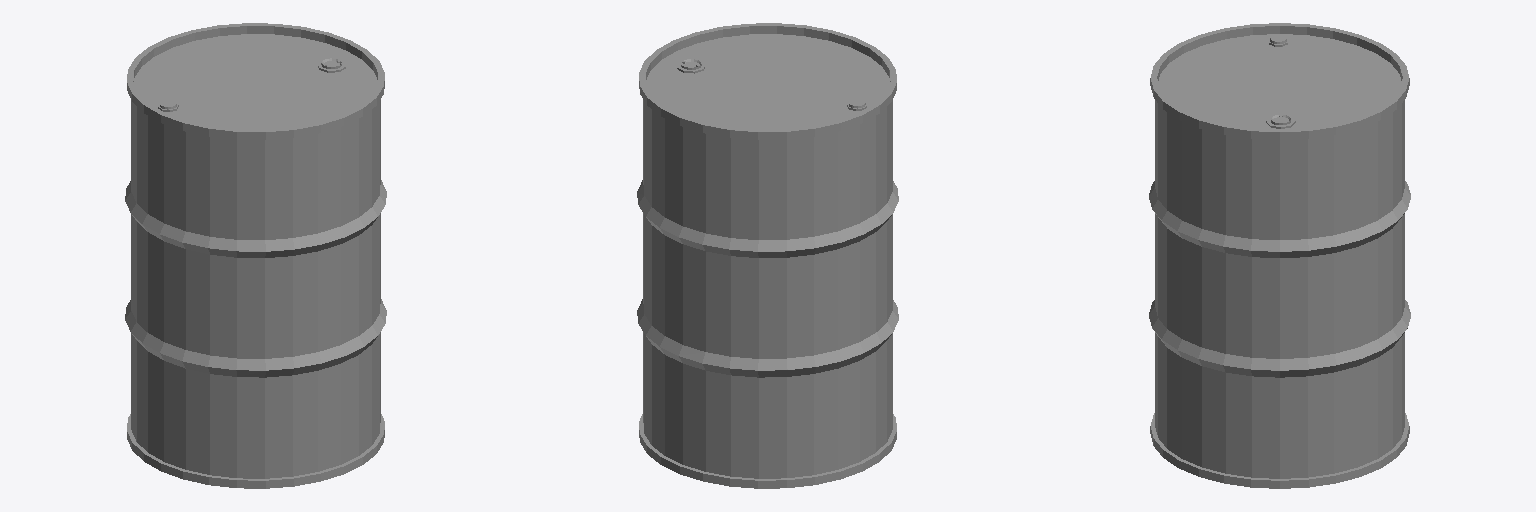
File: barrel_1.obj
The picture shows the model from 3 angles: view 1: azimuth 30°, elevation 25°; view 2: azimuth 150°, elevation 25°; view 3: azimuth 270°, elevation 25°; orthographic projection.
Visible parts, largest first — view 1: barrel_1; view 2: barrel_1; view 3: barrel_1.
Boxes of the visible parts, x1=… form: barrel_1: x1=125, y1=23, x2=386, y2=488; barrel_1: x1=637, y1=23, x2=898, y2=488; barrel_1: x1=1149, y1=23, x2=1410, y2=488.
Bounding box in the file's own units: 0.6202 × 0.9288 × 0.6202.